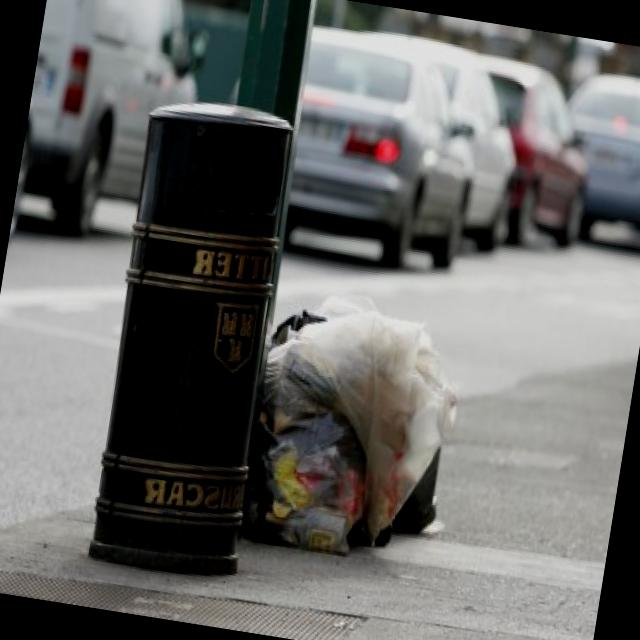garbage: (234, 272, 486, 608)
